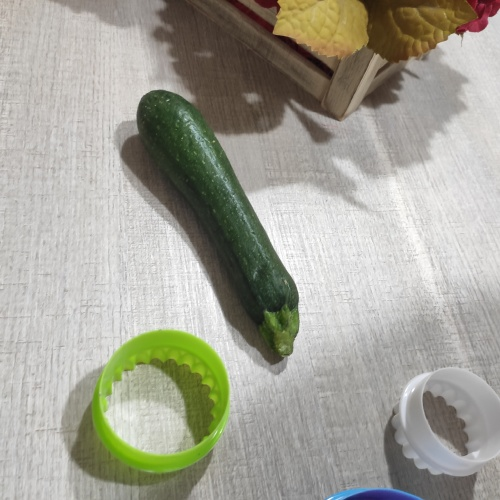zucchine: (140, 94, 321, 349)
